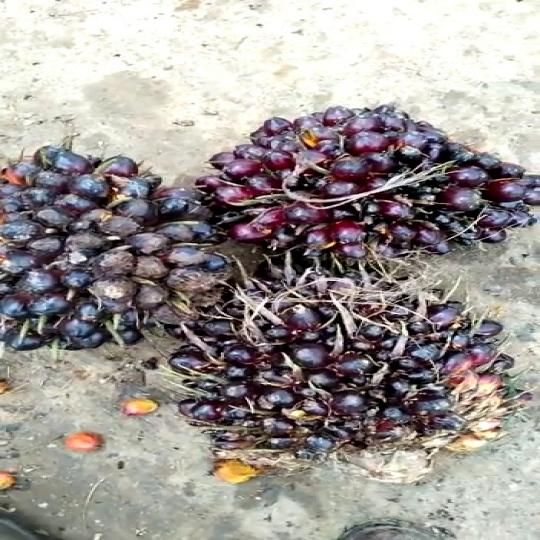kurang masak: (152, 258, 532, 481), (200, 100, 540, 272), (0, 140, 219, 341)
